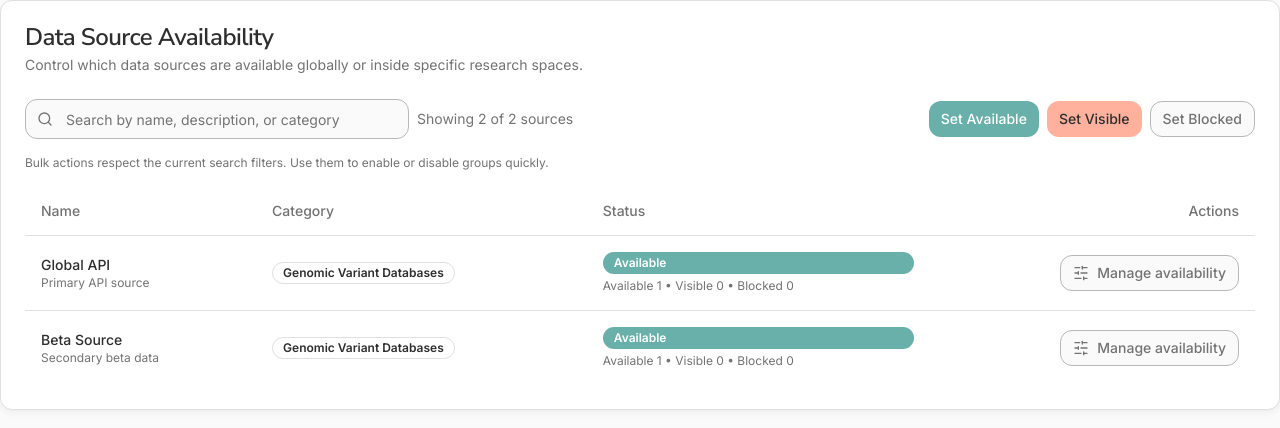
Scenario: DataSourceAvailabilitySection › filters data sources based on search input
The image size is (1280, 428).
Type "Beta" into the field with placeholder "Search by name, description, or category" at x=217, y=119, box [25,99,409,139]
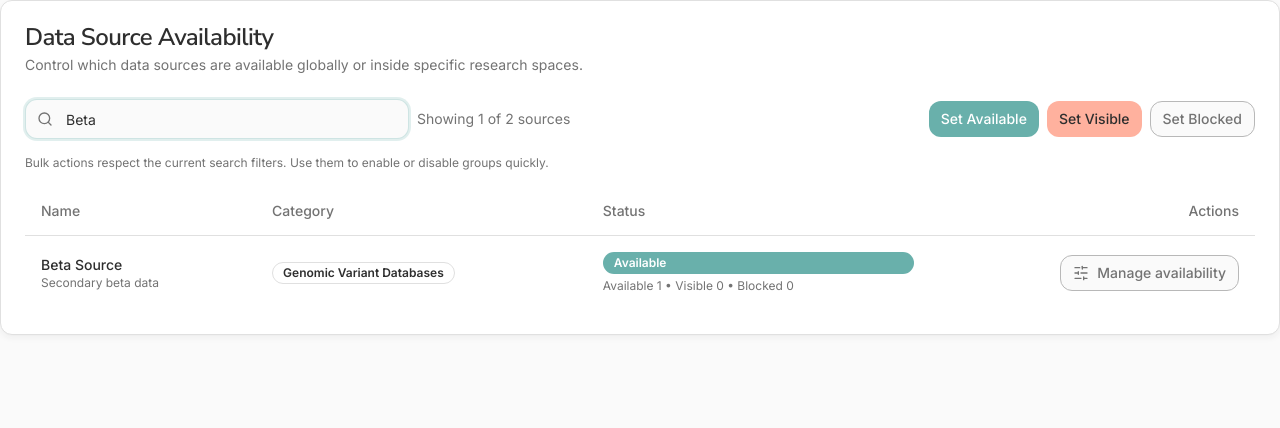
Expected: the text "Beta Source" is shown, [41,256,122,272]
Result: the text "Global API" is gone
